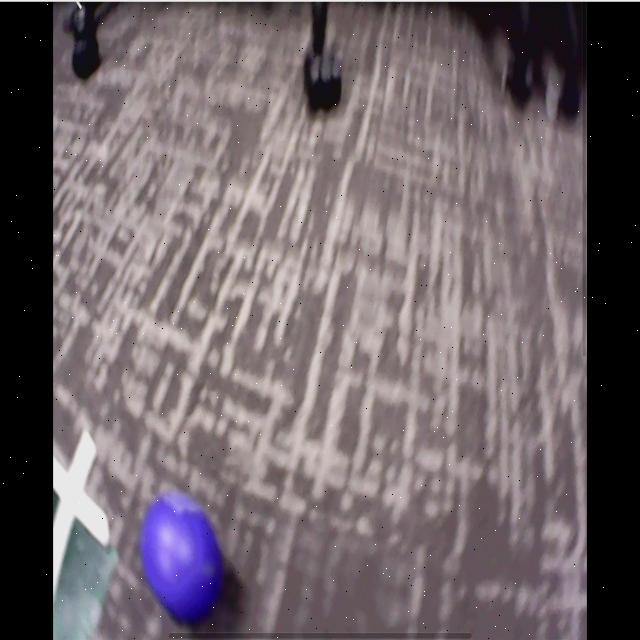ball: (143, 495, 225, 621)
